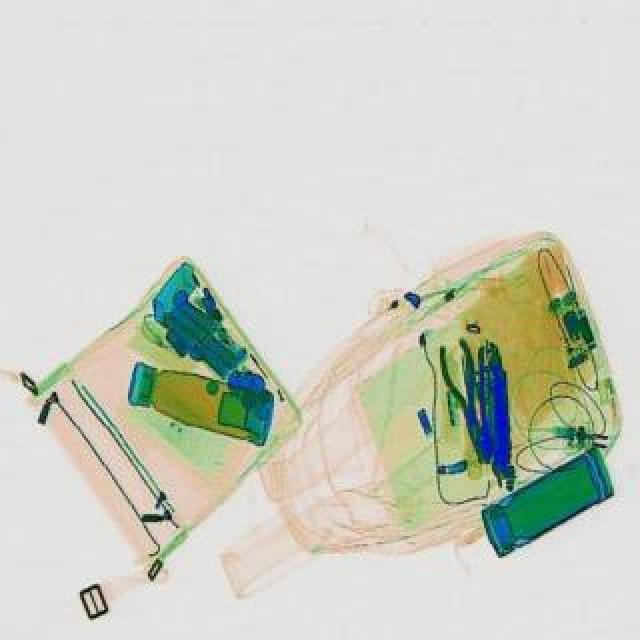wrench: (434, 334, 498, 460)
